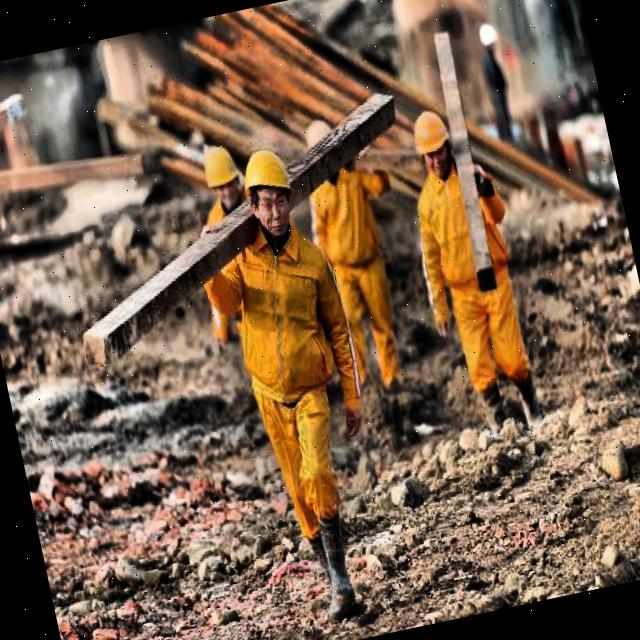helmet: (232, 138, 306, 250), (404, 100, 459, 184), (196, 142, 246, 214)
